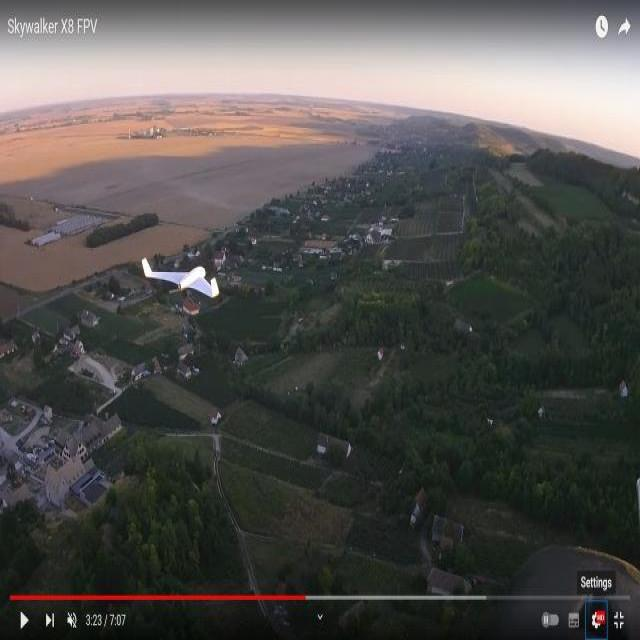iha: (173, 270, 200, 275)
